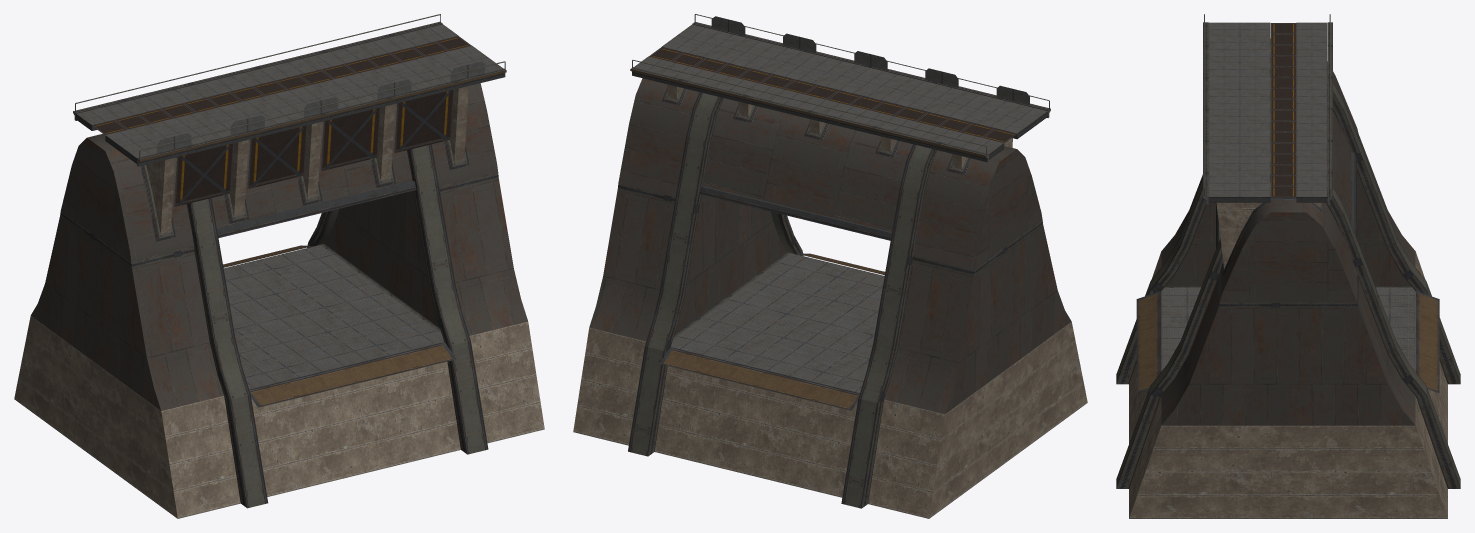
The model's file is Wall1_Gate_L3.fbx.
3 renders of one model, left to right at view 1: azimuth 30°, elevation 25°; view 2: azimuth 150°, elevation 25°; view 3: azimuth 270°, elevation 25°, orthographic. The views are drawn at different scales.
Visible parts, largest first — view 1: polySurface920; view 2: polySurface920; view 3: polySurface920.
Part boxes in pixels (x1=…): polySurface920: x1=14, y1=14, x2=544, y2=518; polySurface920: x1=573, y1=14, x2=1087, y2=518; polySurface920: x1=1116, y1=14, x2=1460, y2=518.
Size of the model in its own units: 4000 by 3585 by 3338.
